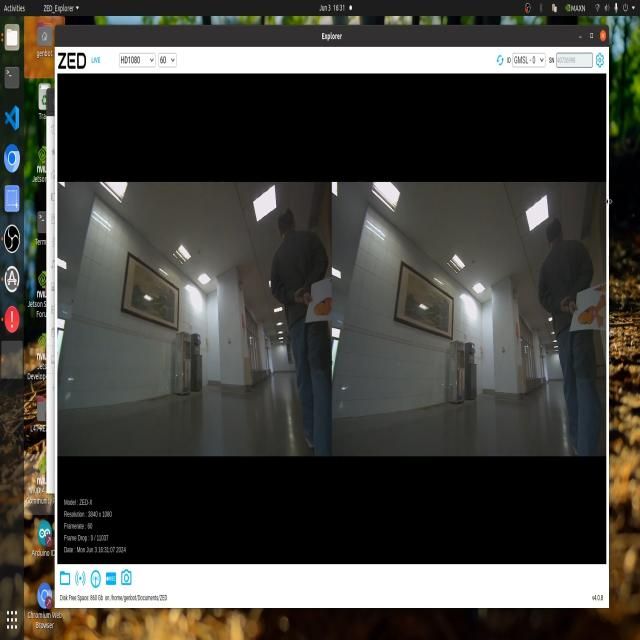red: (576, 280, 607, 335), (312, 286, 333, 324)
